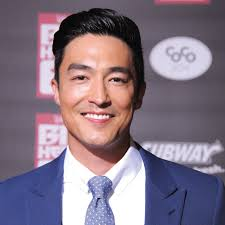asian_male: (51, 7, 149, 154)
